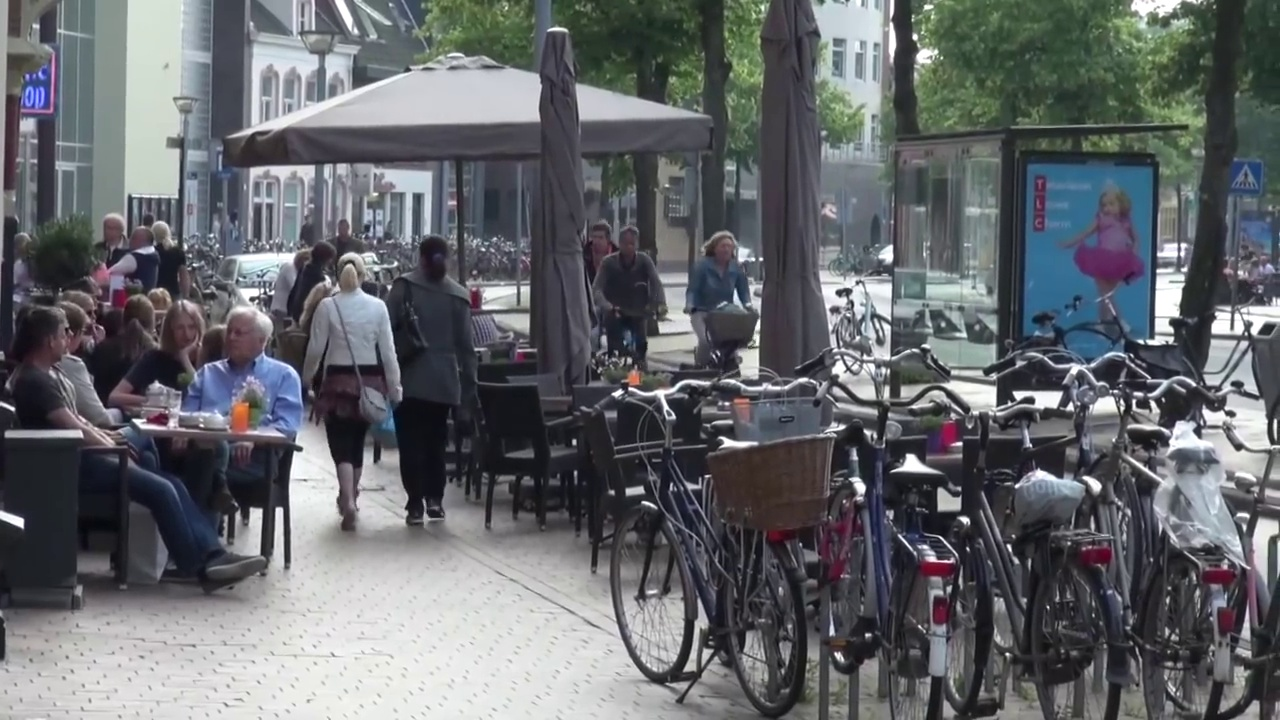cyclist_front: (683, 225, 758, 393), (595, 223, 671, 375)
